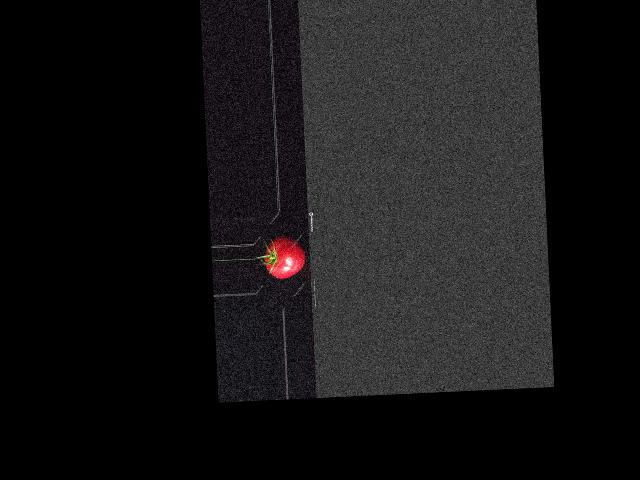tomato: (263, 235, 306, 279)
